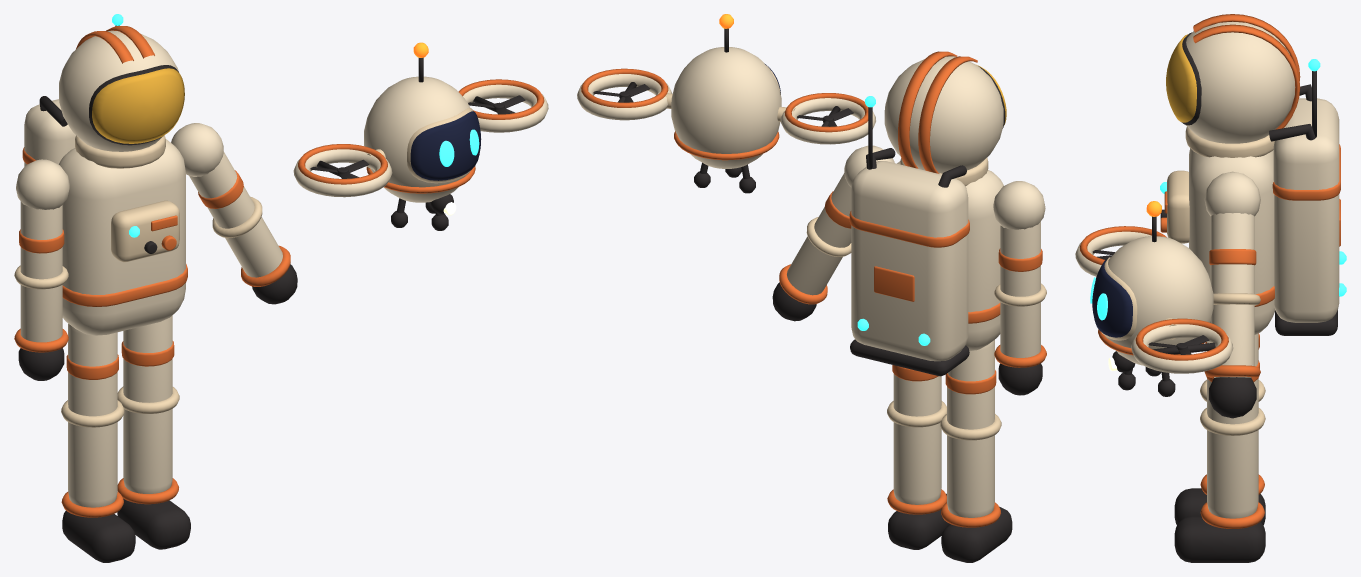
File: echo-2-size.glb
3 views of the same model, side by side, from view 1: azimuth 30°, elevation 25°; view 2: azimuth 150°, elevation 25°; view 3: azimuth 270°, elevation 25° (orthographic). The views are drawn at different scales.
Visible parts, largest first — view 1: body, body.001, leg_r, leg_l, arm_r, arm_l; view 2: body, body.001, leg_r, arm_r, leg_l, arm_l; view 3: body, body.001, arm_l, leg_l, leg_r, rotor_l.
Part boxes in pixels (x1,y1,x2,y2): body: (22,14,187,335); body.001: (293,42,548,230); leg_r: (61,323,135,562); leg_l: (117,315,190,549); arm_r: (14,159,69,380); arm_l: (171,123,297,304); body: (849,51,1006,376); body.001: (577,14,875,193); leg_r: (940,340,1012,562); arm_r: (993,181,1046,395); leg_l: (887,365,949,549); arm_l: (772,145,894,321); body: (1160,14,1346,335); body.001: (1075,201,1233,396); arm_l: (1204,171,1260,418); leg_l: (1174,333,1265,562); leg_r: (1174,333,1265,525); rotor_l: (1148,335,1209,354).
Size of the model in its own units: 1.9 by 1.84 by 0.8646.
